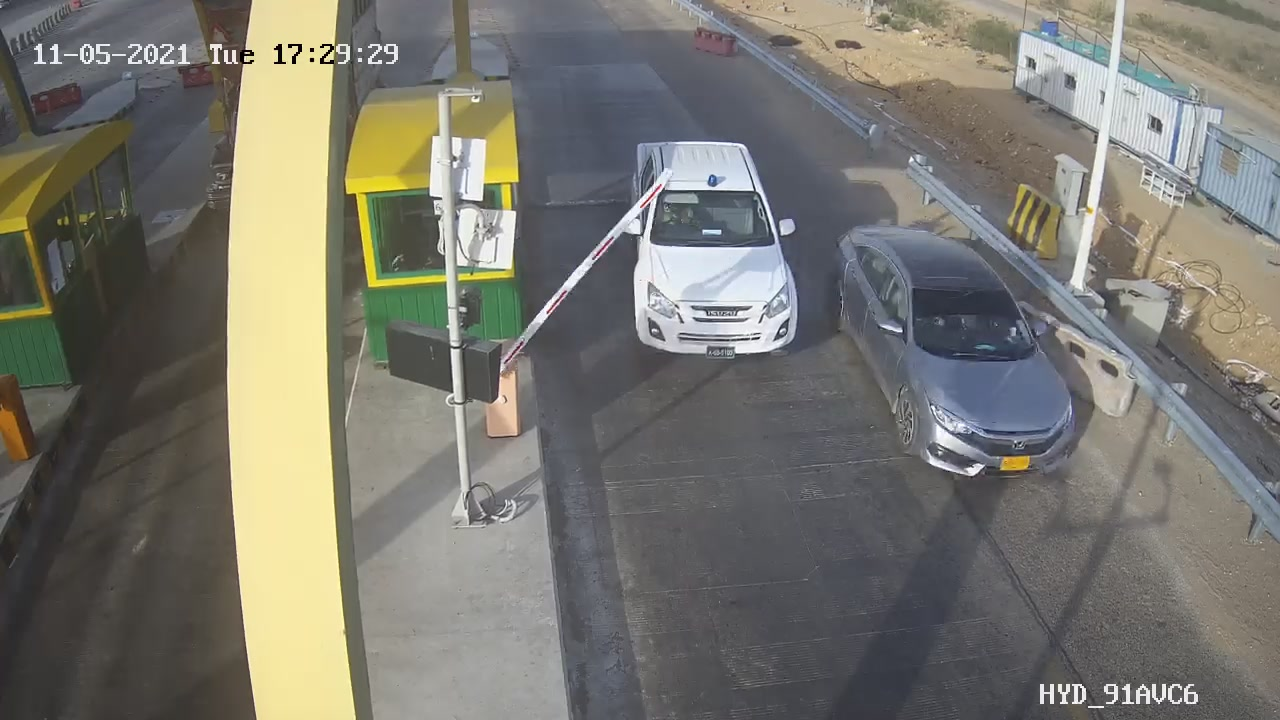F1: (612, 126, 812, 374)
